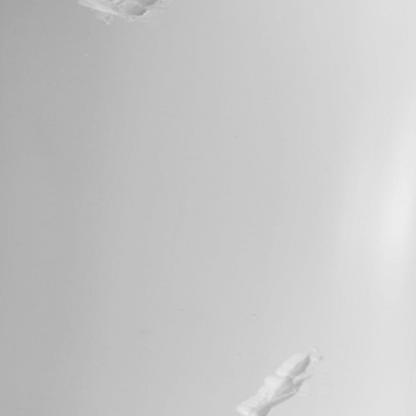sunshang: (241, 352, 315, 416), (75, 1, 158, 22)
